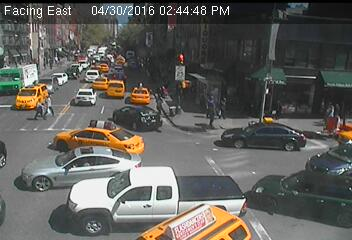neg: (241, 164, 258, 186), (326, 158, 342, 180), (75, 154, 88, 171), (31, 154, 44, 171), (165, 151, 177, 166), (202, 165, 213, 181), (271, 129, 282, 144), (164, 118, 173, 130), (116, 129, 125, 141), (95, 51, 102, 61)
pos: (202, 96, 223, 124), (40, 91, 59, 117), (216, 94, 233, 116), (32, 96, 48, 118), (324, 101, 338, 120), (153, 95, 167, 113), (331, 103, 343, 119), (45, 56, 55, 70)
